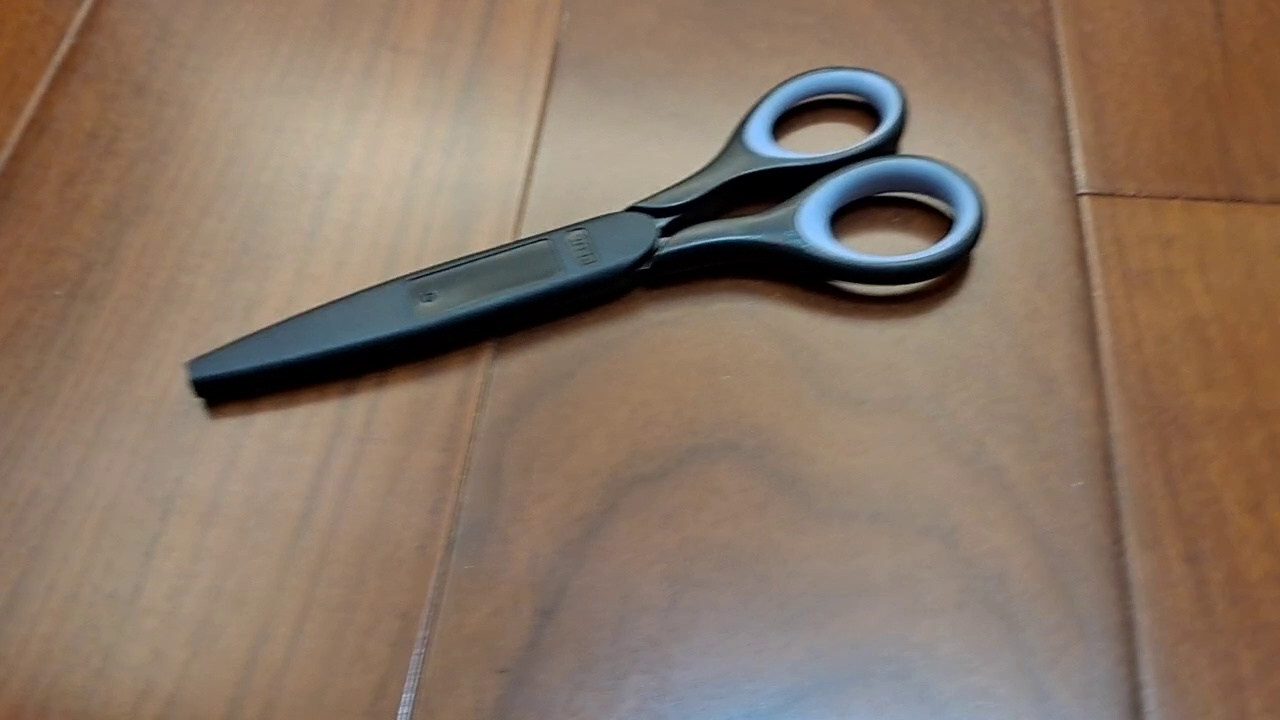scissors: (180, 64, 988, 411)
